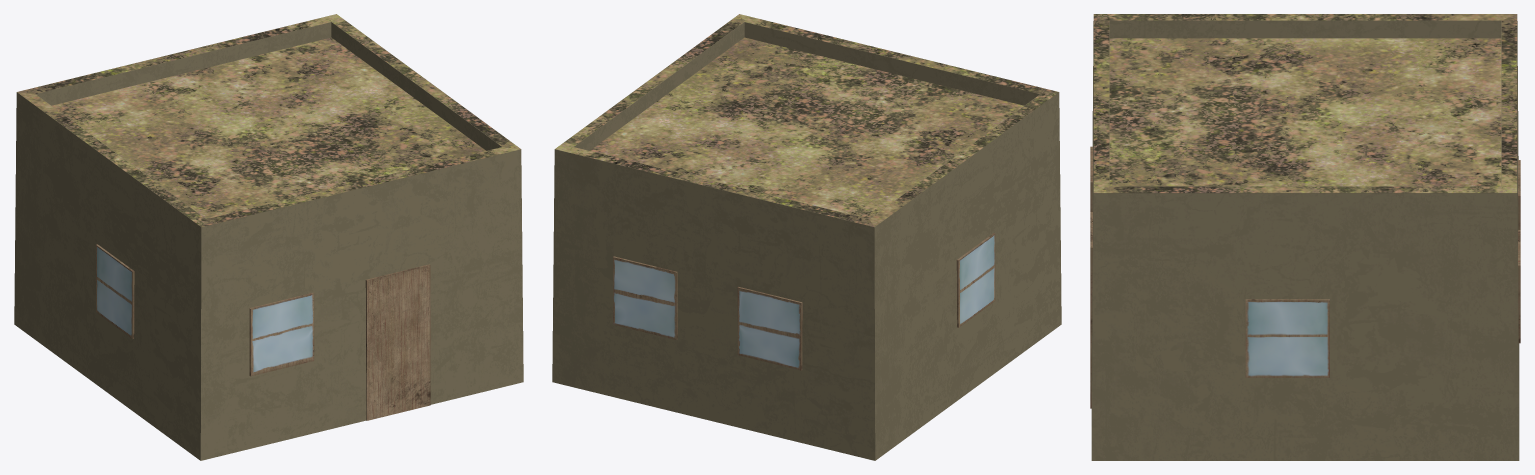
The model's file is wood_cut.glb.
3 views of the same model, side by side, from view 1: azimuth 30°, elevation 25°; view 2: azimuth 150°, elevation 25°; view 3: azimuth 270°, elevation 25° (orthographic). The views are drawn at different scales.
Visible parts, largest first — view 1: WoodCut; view 2: WoodCut; view 3: WoodCut.
Boxes of the visible parts, x1=… form: WoodCut: x1=14, y1=14, x2=523, y2=460; WoodCut: x1=552, y1=14, x2=1061, y2=460; WoodCut: x1=1090, y1=14, x2=1520, y2=460.
Size of the model in its own units: 4.62 by 3.16 by 4.62.
1 material, 1 textured.
